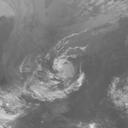cyclone: (29, 53, 85, 101)
